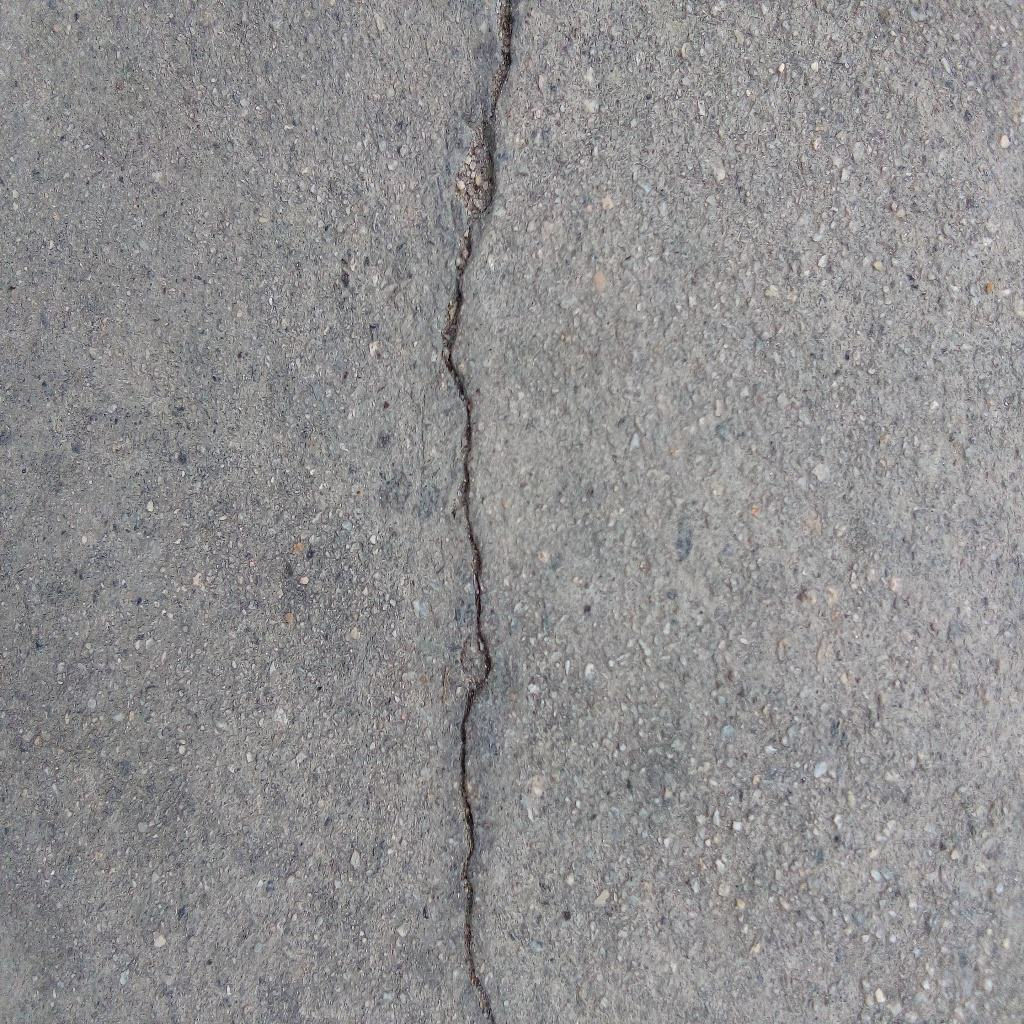Crack: (439, 1, 515, 1024)
